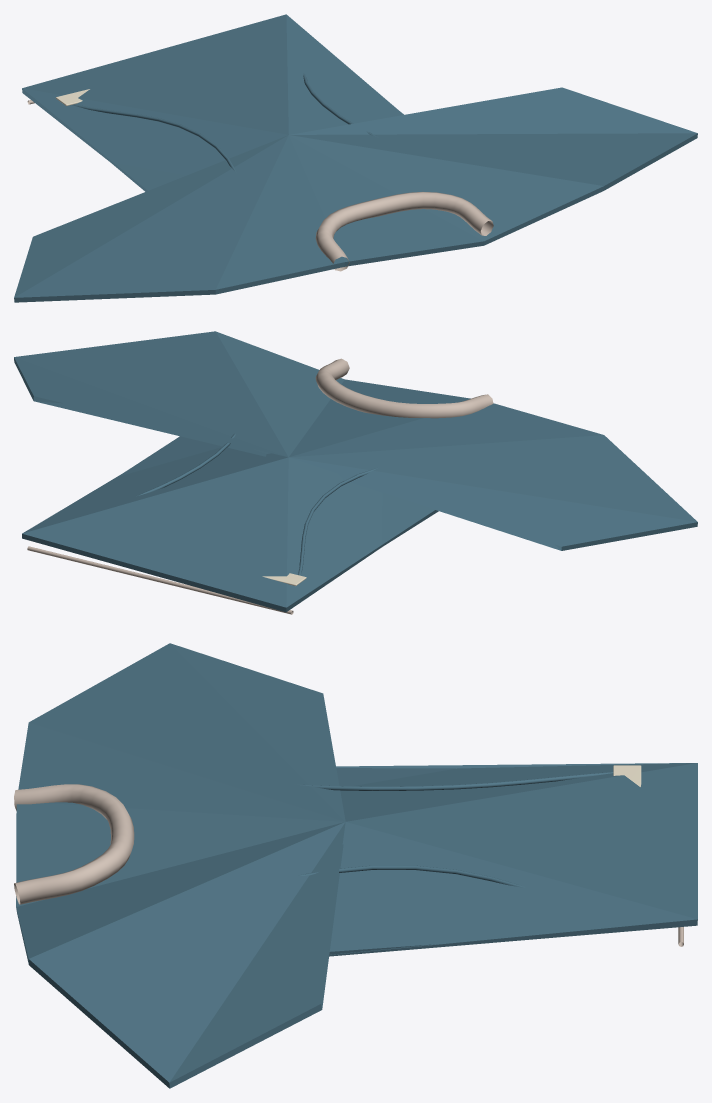
The model's file is shirt_blue.glb.
3 renders of one model, top to bottom at view 1: azimuth 30°, elevation 25°; view 2: azimuth 150°, elevation 25°; view 3: azimuth 270°, elevation 25°, orthographic. The views are drawn at different scales.
Parts seen in each view (by area): view 1: shirt_blue; view 2: shirt_blue; view 3: shirt_blue.
Part boxes in pixels (x1,y1,x2,y2): shirt_blue: (14,14,697,302); shirt_blue: (14,331,697,614); shirt_blue: (14,643,697,1088).
Size of the model in its own units: 0.4405 by 0.0255 by 0.2915.
